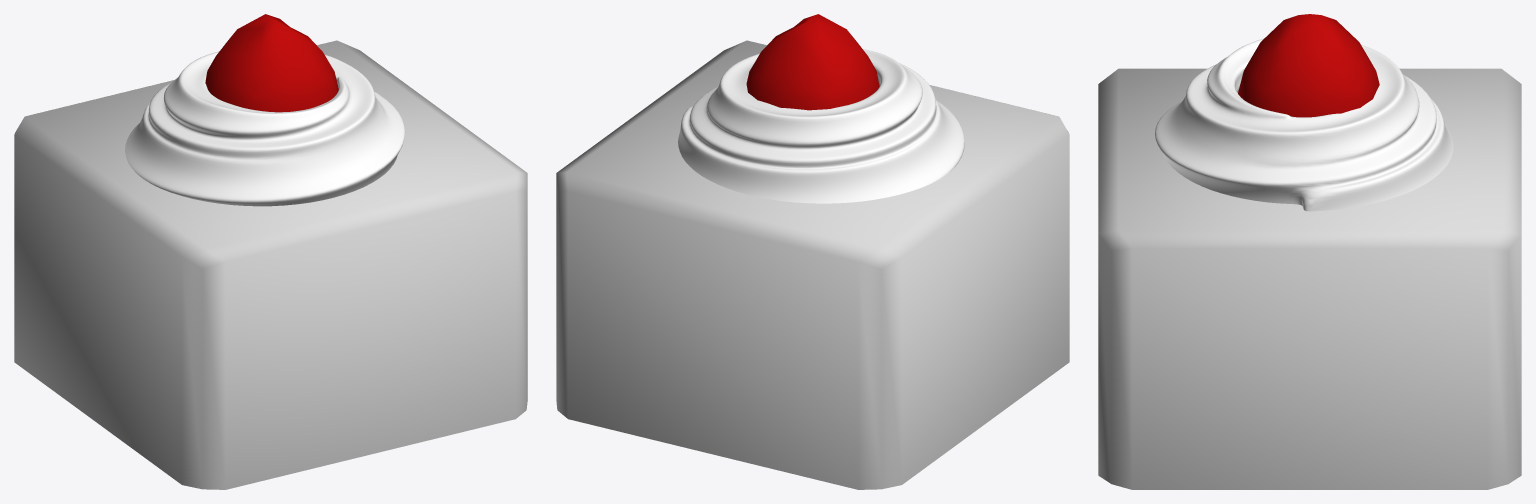
The model's file is Cake_01.fbx.
The picture shows the model from 3 angles, left to right: view 1: azimuth 30°, elevation 25°; view 2: azimuth 150°, elevation 25°; view 3: azimuth 270°, elevation 25°; orthographic projection. The views are drawn at different scales.
Visible parts, largest first — view 1: Cake_body, Cream, Cake_berry; view 2: Cake_body, Cream, Cake_berry; view 3: Cake_body, Cream, Cake_berry.
Part boxes in pixels (left/top/right/bottom): Cake_body: left=14, top=40, right=527, bottom=489; Cream: left=125, top=51, right=405, bottom=206; Cake_berry: left=205, top=14, right=338, bottom=112; Cake_body: left=556, top=40, right=1069, bottom=489; Cream: left=678, top=49, right=964, bottom=203; Cake_berry: left=746, top=14, right=879, bottom=110; Cake_body: left=1098, top=68, right=1521, bottom=489; Cream: left=1155, top=38, right=1453, bottom=211; Cake_berry: left=1238, top=14, right=1379, bottom=117.
Bounding box in the file's own units: 38.8 × 39.1 × 38.8.
